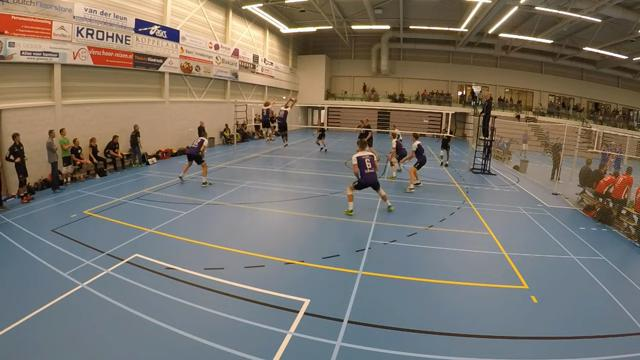muro: (275, 92, 298, 152), (255, 95, 273, 142)
